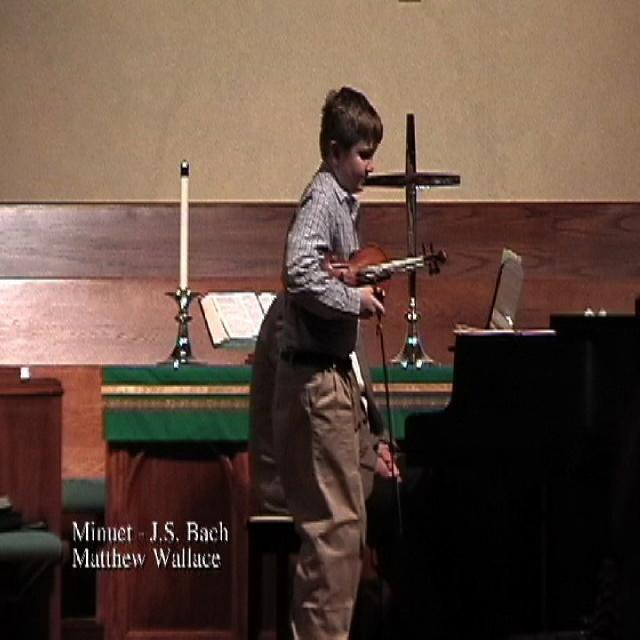violin: (326, 245, 454, 298)
